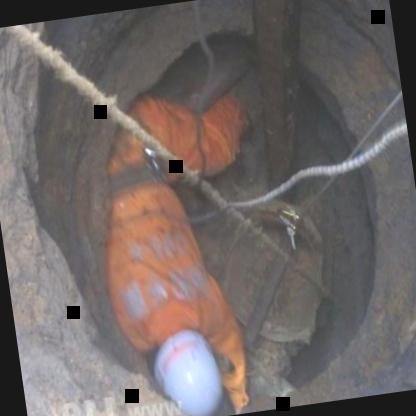helmet: (143, 322, 228, 416)
